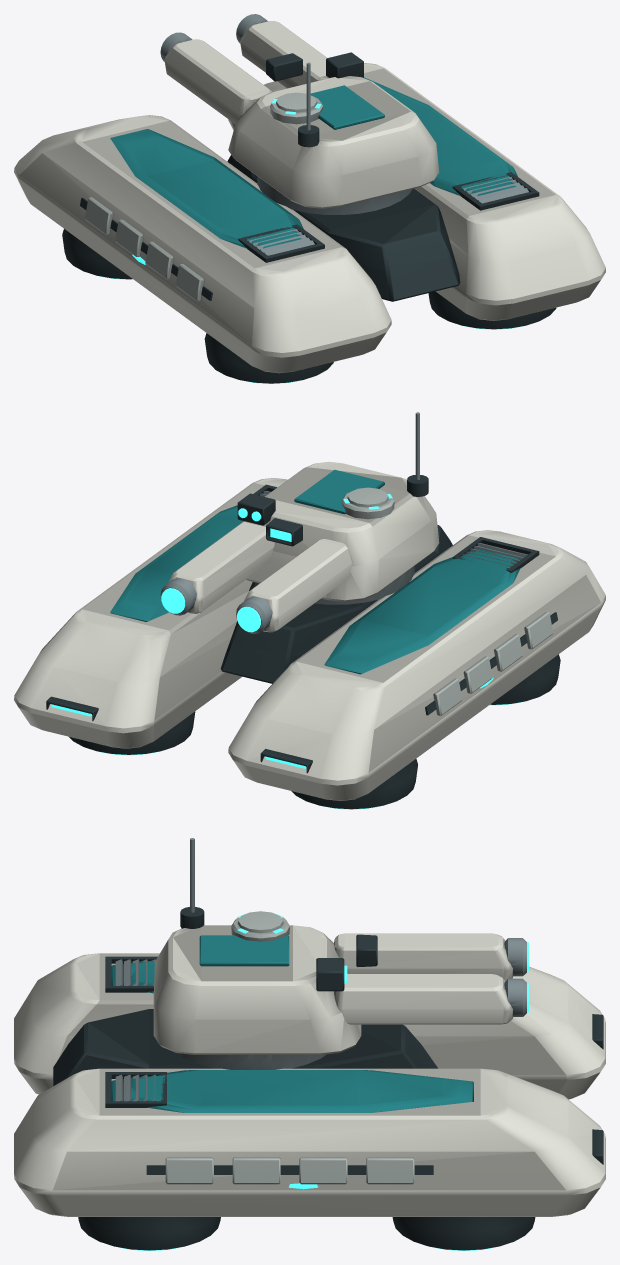
Rendered from NeedleSkimmer.glb.
3 views of the same model, one above another, from view 1: azimuth 30°, elevation 25°; view 2: azimuth 150°, elevation 25°; view 3: azimuth 270°, elevation 25° (orthographic). The views are drawn at different scales.
Parts seen in each view (by area): view 1: export_NeedleSkimmer_LiftDuct_-1_-1.15, export_NeedleSkimmer_Turret, export_NeedleSkimmer_PulseHousing, export_NeedleSkimmer_PulseHousing.001; view 2: export_NeedleSkimmer_LiftDuct_-1_-1.15, export_NeedleSkimmer_Turret, export_NeedleSkimmer_PulseHousing, export_NeedleSkimmer_PulseHousing.001; view 3: export_NeedleSkimmer_LiftDuct_-1_-1.15, export_NeedleSkimmer_Turret, export_NeedleSkimmer_PulseHousing.001, export_NeedleSkimmer_PulseHousing.
Part boxes in pixels (left/top/right/bottom): export_NeedleSkimmer_LiftDuct_-1_-1.15: left=14, top=63, right=605, bottom=383; export_NeedleSkimmer_Turret: left=228, top=52, right=439, bottom=208; export_NeedleSkimmer_PulseHousing: left=160, top=32, right=272, bottom=123; export_NeedleSkimmer_PulseHousing.001: left=236, top=14, right=328, bottom=88; export_NeedleSkimmer_LiftDuct_-1_-1.15: left=14, top=478, right=605, bottom=809; export_NeedleSkimmer_Turret: left=237, top=412, right=439, bottom=601; export_NeedleSkimmer_PulseHousing: left=236, top=539, right=352, bottom=633; export_NeedleSkimmer_PulseHousing.001: left=160, top=521, right=274, bottom=615; export_NeedleSkimmer_LiftDuct_-1_-1.15: left=14, top=953, right=605, bottom=1250; export_NeedleSkimmer_Turret: left=153, top=838, right=377, bottom=1054; export_NeedleSkimmer_PulseHousing.001: left=334, top=974, right=528, bottom=1024; export_NeedleSkimmer_PulseHousing: left=334, top=933, right=528, bottom=981.
Size of the model in its own units: 3.4 by 2.44 by 4.43.
